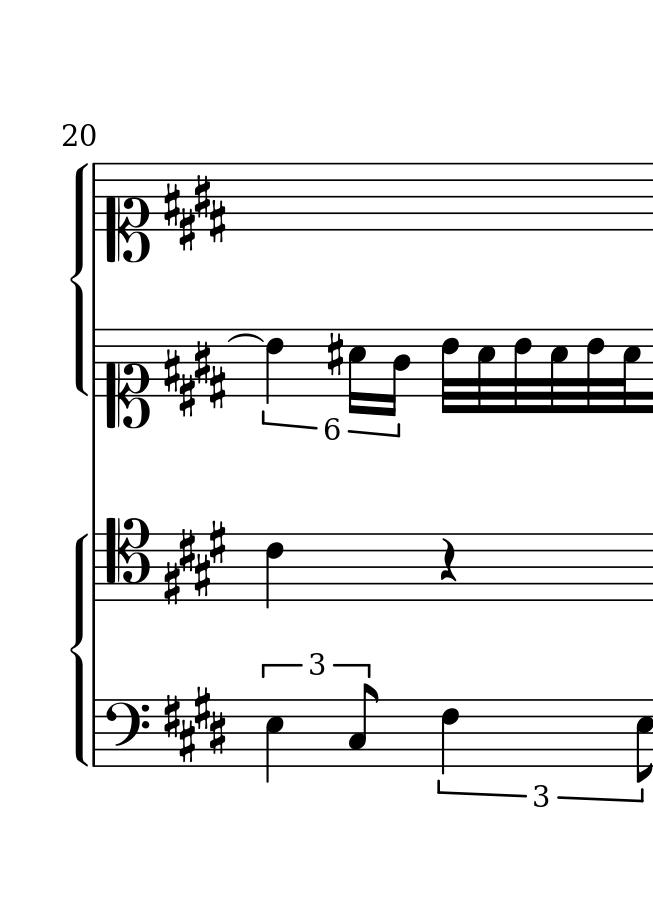0: (77, 121, 97, 148)
16_4: (383, 326, 412, 417)
16_5: (346, 327, 367, 414)
2: (60, 122, 78, 149)
32_5: (614, 327, 644, 414), (548, 326, 570, 415), (476, 327, 498, 414)
32_6: (511, 326, 535, 415), (439, 328, 460, 416), (585, 327, 606, 415)
4_5: (263, 698, 285, 785)
4_6: (438, 697, 461, 776), (264, 327, 283, 406), (265, 531, 284, 609)
8_3: (346, 682, 381, 769)
Brace: (70, 159, 90, 396), (70, 533, 88, 767)
E_S: (163, 519, 228, 606), (159, 685, 230, 761), (161, 338, 227, 415), (164, 174, 227, 252)
Fclef: (103, 697, 152, 769)
Rests4: (439, 537, 459, 583)
Sharp: (327, 331, 345, 378)
Single_barline: (88, 329, 106, 396), (87, 533, 103, 601), (88, 700, 102, 768), (88, 163, 101, 231)
Slur: (227, 333, 264, 344)
Soprano_Cclef: (103, 326, 152, 430), (105, 161, 151, 262)
Tensor_Cclef: (106, 516, 152, 604)
